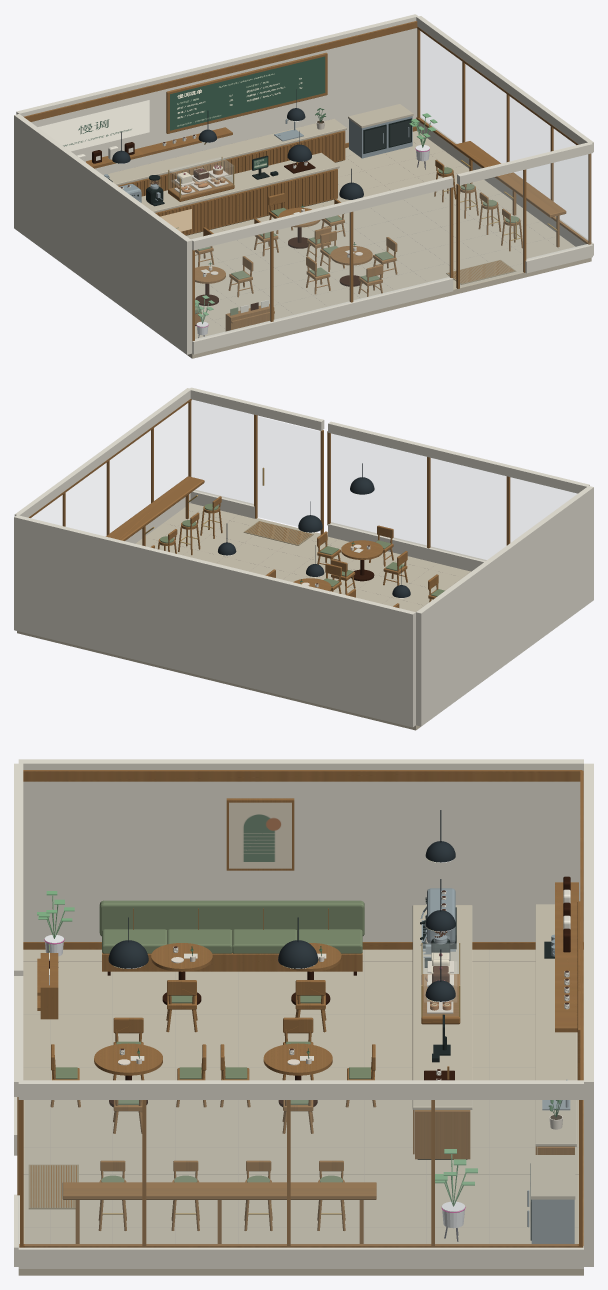
Rendered from cafe.glb.
3 renders of one model, top to bottom at view 1: azimuth 30°, elevation 25°; view 2: azimuth 150°, elevation 25°; view 3: azimuth 270°, elevation 25°, orthographic. The views are drawn at different scales.
Parts seen in each view (by area): view 1: Floor_1, Front_glazing_46, LeftWall_3, BackWall_2, Full_height_right_glazing_36, Entry_glass_door_54, Front_right_glass_57, Unlit_menu_art_452, Front_low_wall_44, Oak_cabinet_80, Front_header_45, Quartz_countertop_153 (+26 smaller); view 2: BackWall_2, LeftWall_3, Front_glazing_46, Floor_1, Full_height_right_glazing_36, Entry_glass_door_54, Front_right_glass_57, Front_header_45, Right_window_header_35, Front_low_wall_44, Window_bar_top_647, Entrance_mat_59 (+6 smaller); view 3: Floor_1, Full_height_right_glazing_36, LeftWall_3, Right_window_plinth_34, Right_window_header_35, Banquette_back_482, Left_oak_cornice_33, Quartz_countertop_79, Quartz_countertop_153, Window_bar_top_647, BackWall_2, OriginalArtwork_704 (+27 smaller).
Part boxes in pixels (left/top/right/bottom): Floor_1: left=186, top=131, right=591, bottom=358; Front_glazing_46: left=195, top=188, right=450, bottom=339; LeftWall_3: left=14, top=114, right=192, bottom=354; BackWall_2: left=16, top=14, right=418, bottom=174; Full_height_right_glazing_36: left=421, top=32, right=587, bottom=239; Entry_glass_door_54: left=460, top=171, right=523, bottom=286; Front_right_glass_57: left=527, top=154, right=591, bottom=259; Unlit_menu_art_452: left=170, top=56, right=325, bottom=130; Front_low_wall_44: left=192, top=277, right=453, bottom=354; Oak_cabinet_80: left=155, top=168, right=337, bottom=235; Front_header_45: left=191, top=176, right=453, bottom=250; Quartz_countertop_153: left=103, top=118, right=346, bottom=185; BackWall_2: left=14, top=515, right=415, bottom=727; LeftWall_3: left=416, top=486, right=593, bottom=726; Front_glazing_46: left=331, top=434, right=576, bottom=560; Floor_1: left=17, top=503, right=470, bottom=730; Full_height_right_glazing_36: left=32, top=404, right=187, bottom=535; Entry_glass_door_54: left=258, top=416, right=319, bottom=531; Front_right_glass_57: left=192, top=400, right=253, bottom=504; Front_header_45: left=328, top=421, right=589, bottom=493; Right_window_header_35: left=14, top=388, right=191, bottom=517; Front_low_wall_44: left=328, top=522, right=486, bottom=571; Window_bar_top_647: left=106, top=476, right=204, bottom=540; Entrance_mat_59: left=243, top=521, right=313, bottom=545; Floor_1: left=18, top=949, right=583, bottom=1275; Full_height_right_glazing_36: left=25, top=1100, right=576, bottom=1245; LeftWall_3: left=18, top=759, right=583, bottom=941; Right_window_plinth_34: left=18, top=1246, right=583, bottom=1268; Right_window_header_35: left=18, top=1080, right=583, bottom=1099; Banquette_back_482: left=99, top=900, right=364, bottom=936; Left_oak_cornice_33: left=23, top=770, right=582, bottom=781; Quartz_countertop_79: left=412, top=905, right=472, bottom=1109; Quartz_countertop_153: left=535, top=904, right=576, bottom=1146; Window_bar_top_647: left=62, top=1182, right=376, bottom=1199; BackWall_2: left=584, top=763, right=593, bottom=1266; OriginalArtwork_704: left=229, top=802, right=291, bottom=868.
Size of the model in its own units: 12.23 by 3.4 by 9.23.
Materials: 32 (8 with a texture image).
